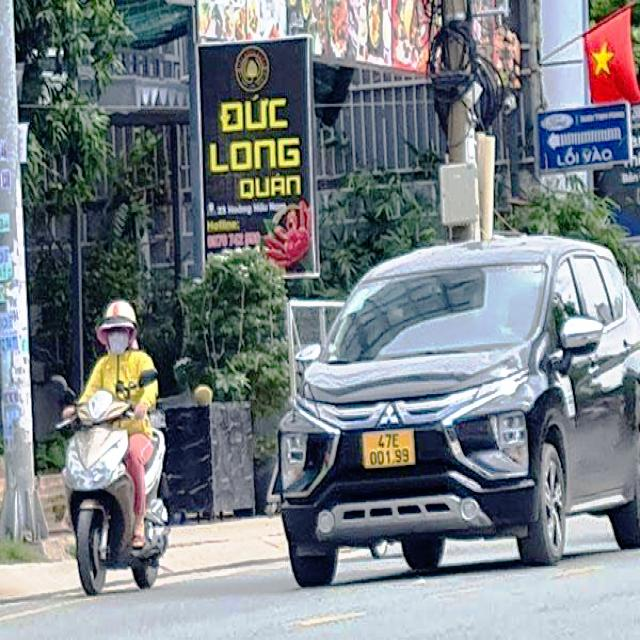license_plate: (364, 430, 416, 468)
